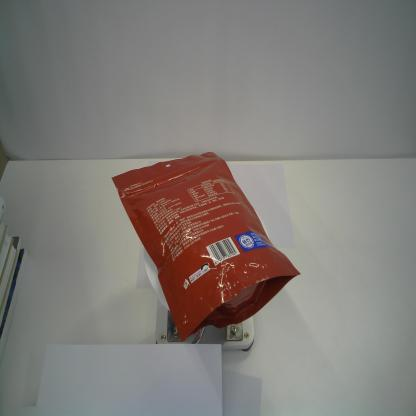Dried Food: (110, 151, 302, 344)
